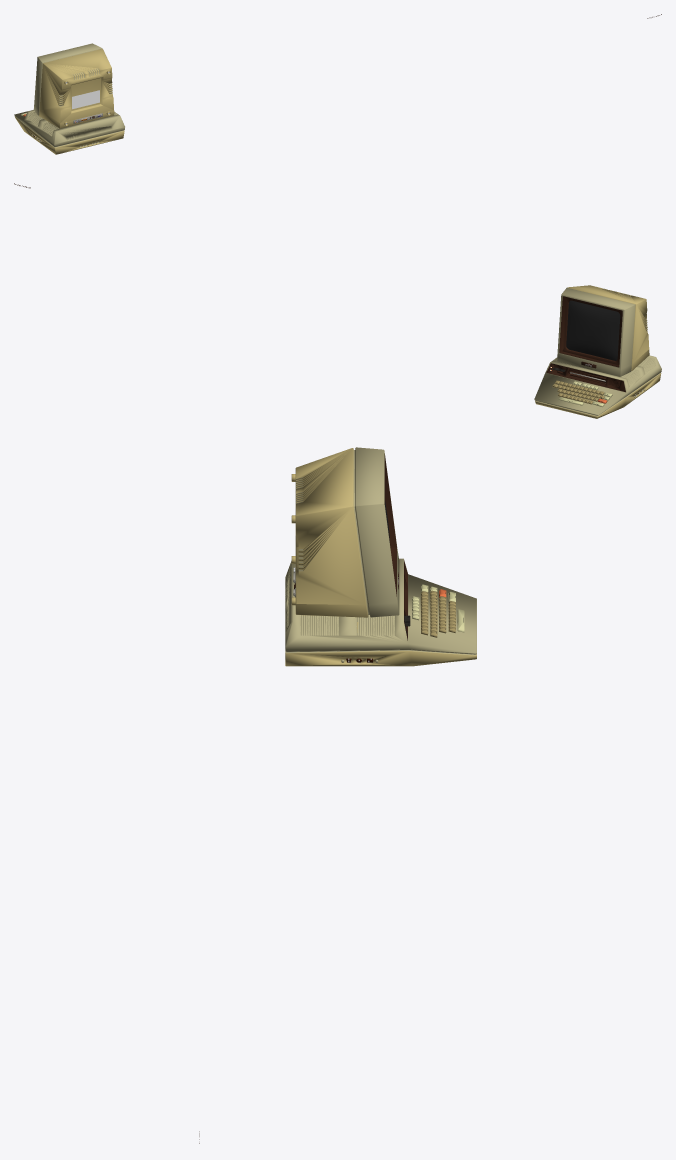
The model's file is computer.glb.
3 views of the same model, one above another, from view 1: azimuth 30°, elevation 25°; view 2: azimuth 150°, elevation 25°; view 3: azimuth 270°, elevation 25° (orthographic). The views are drawn at different scales.
Parts seen in each view (by area): view 1: Куб; view 2: Куб; view 3: Куб.
Part boxes in pixels (x1,y1,x2,y2): Куб: [14, 43, 124, 154]; Куб: [534, 285, 661, 418]; Куб: [285, 447, 476, 666].
Bounding box in the file's own units: 2.85 × 0.3669 × 0.5862.
